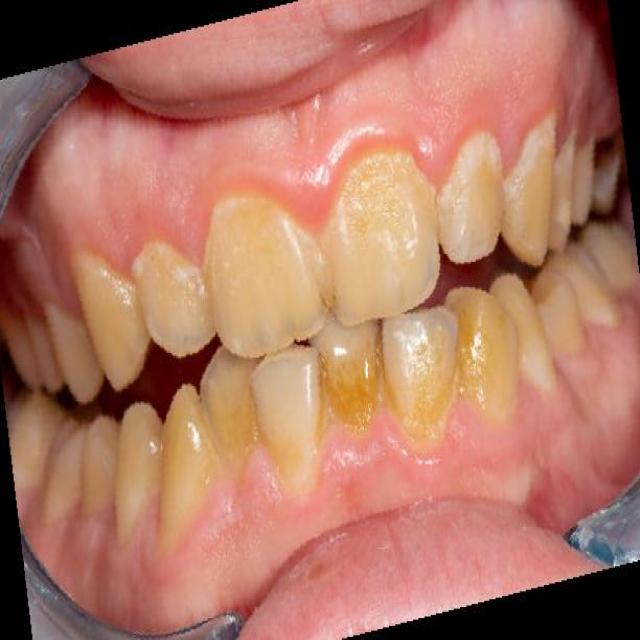caries: (592, 118, 624, 188)
